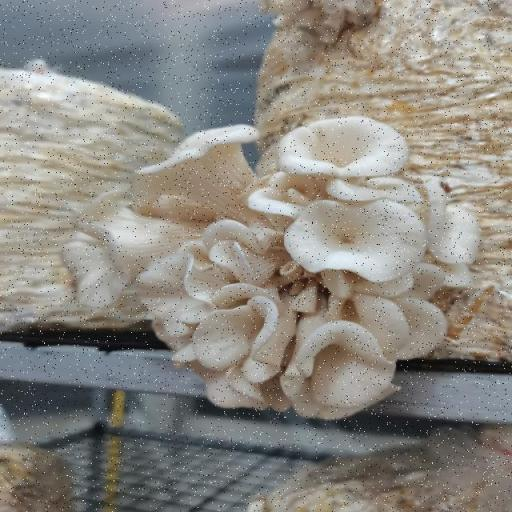White Oyster Mushroom: (60, 117, 485, 435)
